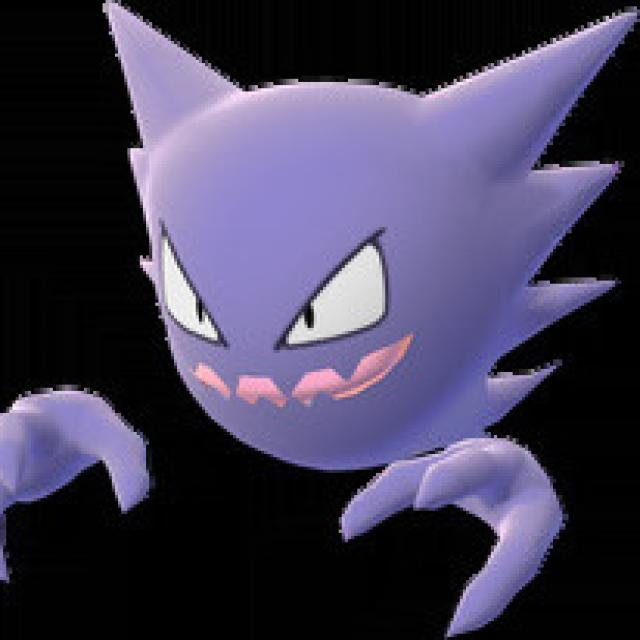Haunter: (96, 5, 640, 554)
